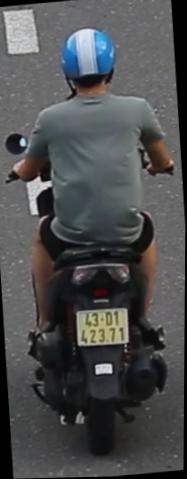LP: (72, 301, 132, 349)
helmet: (57, 20, 120, 105)
